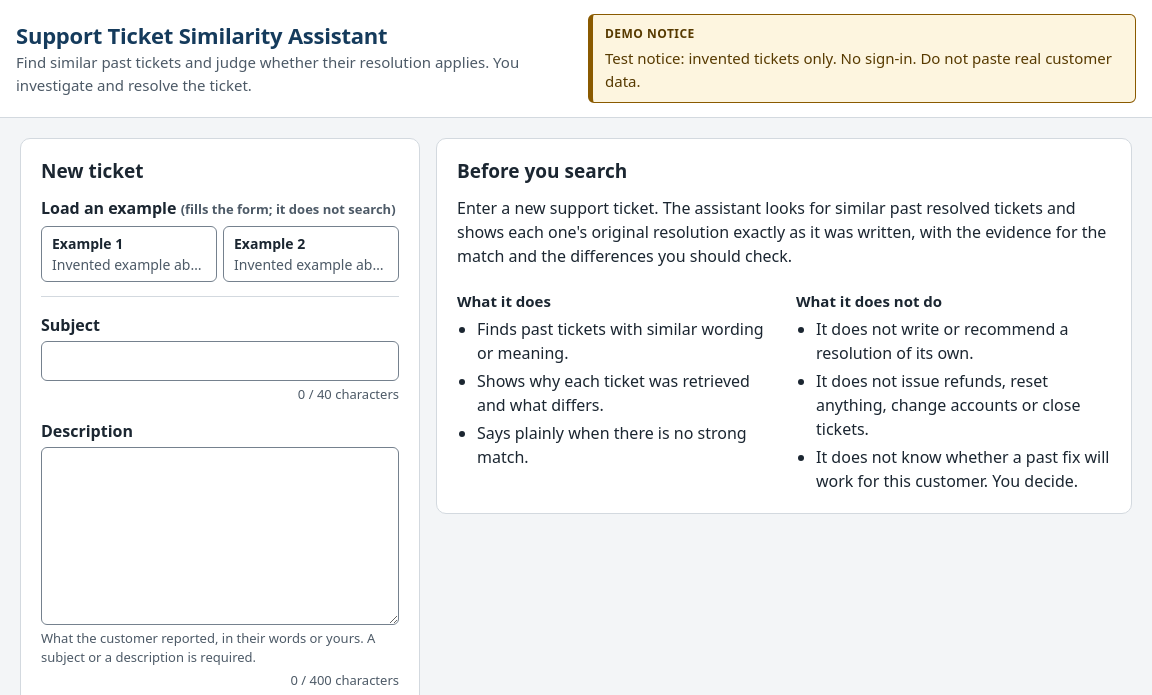
Test: exact text matches › labels exact matches, keeps each ticket separate and does not claim the same incident
Expected: the heading "Before you search" is shown, [457, 158, 627, 184]
In the field labelled "Subject": (220, 361) [41, 341, 399, 381], type "Widget sync stops after update"
(page scrolled)
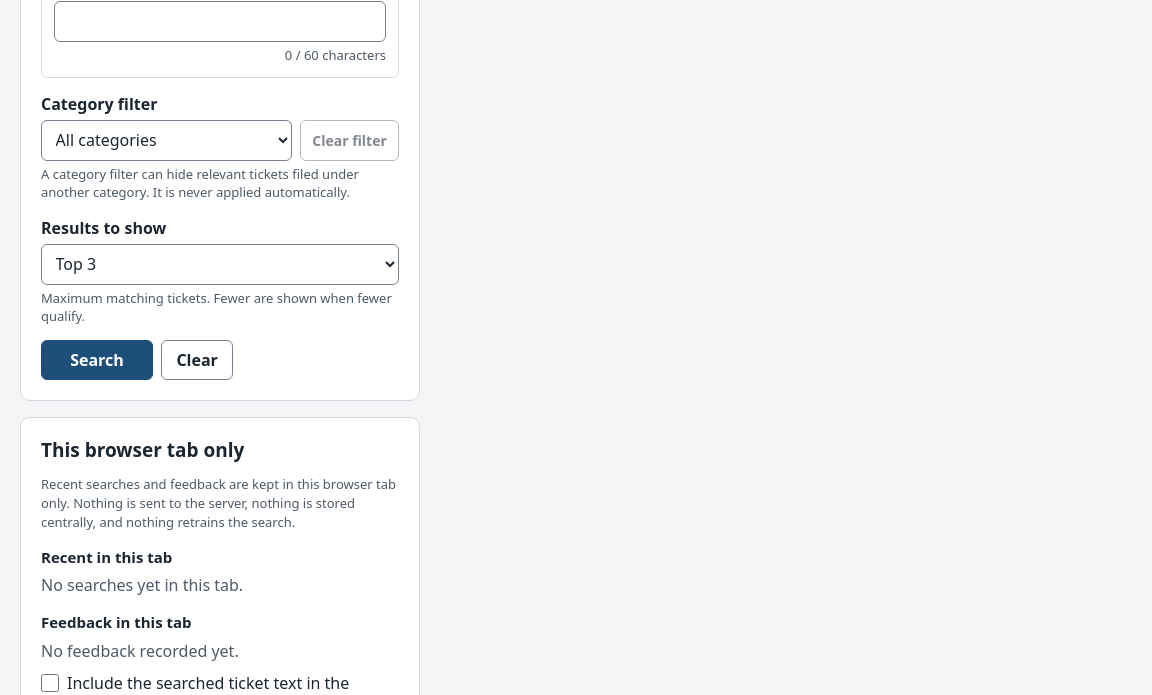
Click the button "Search": (97, 360) [41, 340, 153, 380]
(page scrolled)
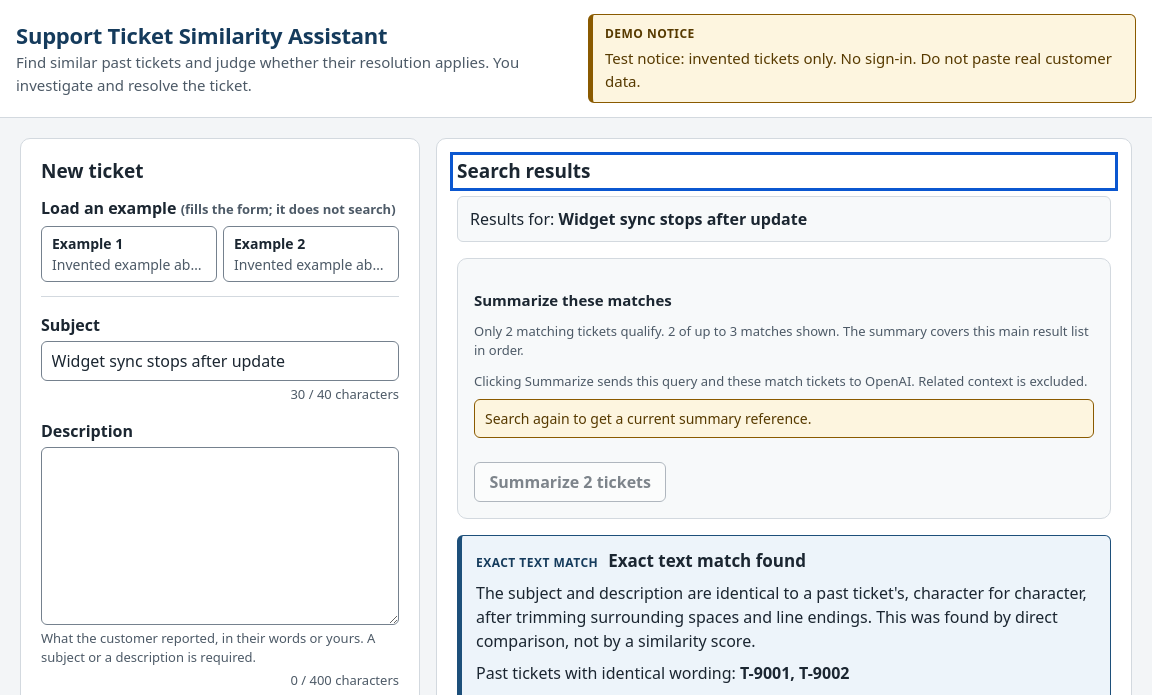
Expected: the text "Exact text match found" is shown, [608, 548, 806, 573]
Expected: the text "T-9001, T-9002" is shown, [740, 662, 850, 684]
